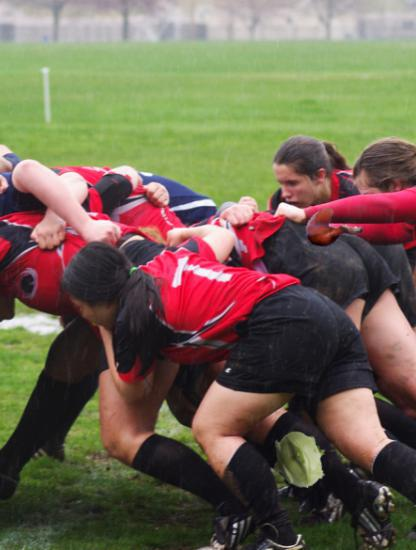Banana: (307, 203, 358, 254)
Kohlrabi: (270, 429, 330, 489)
